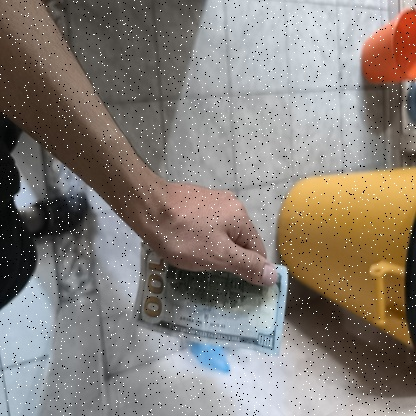one_hundred-back: (129, 240, 291, 358)
